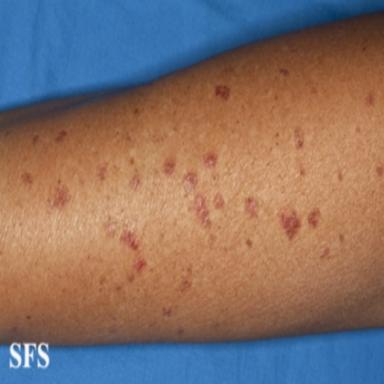Porokeratosis: (280, 209, 301, 240), (120, 218, 139, 251), (194, 193, 211, 227), (49, 185, 71, 208), (184, 172, 197, 193), (245, 197, 258, 217), (307, 208, 320, 227), (203, 152, 217, 169), (105, 216, 116, 237), (163, 159, 175, 177), (215, 85, 229, 100), (130, 172, 141, 190), (97, 162, 107, 181), (55, 129, 67, 143), (214, 193, 224, 209), (134, 259, 146, 272), (22, 172, 33, 186), (365, 92, 375, 107), (376, 167, 383, 177), (32, 135, 38, 145)
